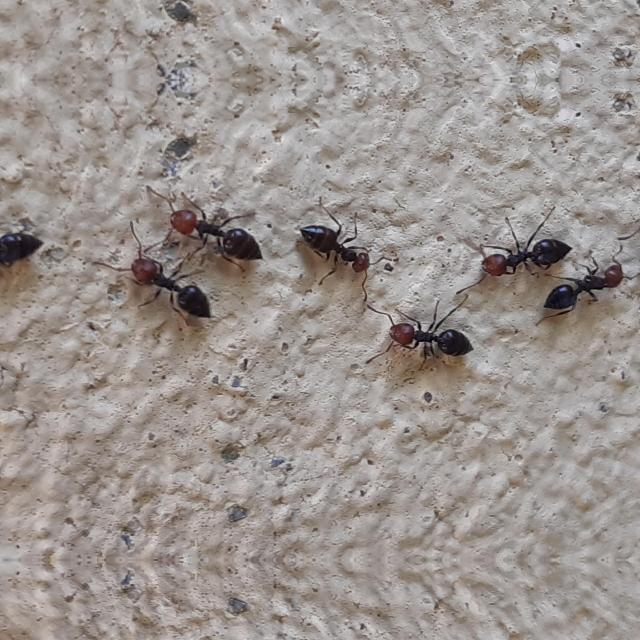Crematogaster: (156, 189, 272, 273), (366, 294, 484, 362), (119, 243, 221, 319), (467, 212, 567, 284), (298, 207, 382, 287), (546, 252, 628, 324), (0, 213, 46, 281)
